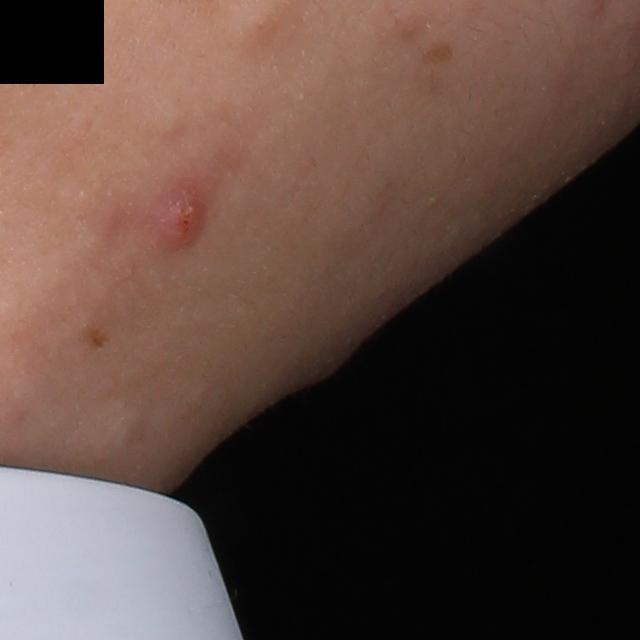comedo: (235, 2, 293, 45)
nevus: (79, 324, 113, 351)
papule: (163, 187, 214, 259)
